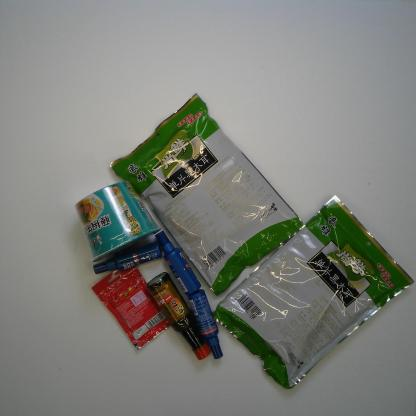Candy: (91, 268, 172, 350)
Dried Food: (211, 193, 415, 391), (110, 94, 306, 298)
Instant Noodles: (74, 180, 162, 262)
Personal Hygiene: (154, 229, 201, 296), (186, 288, 224, 360), (92, 240, 163, 275)
Seasoner: (146, 271, 211, 361)
